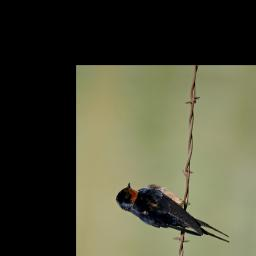Swallow: (110, 179, 237, 245)
